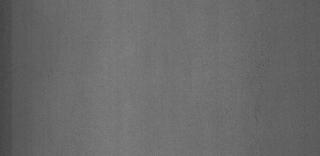silk spot: (244, 26, 286, 102)
